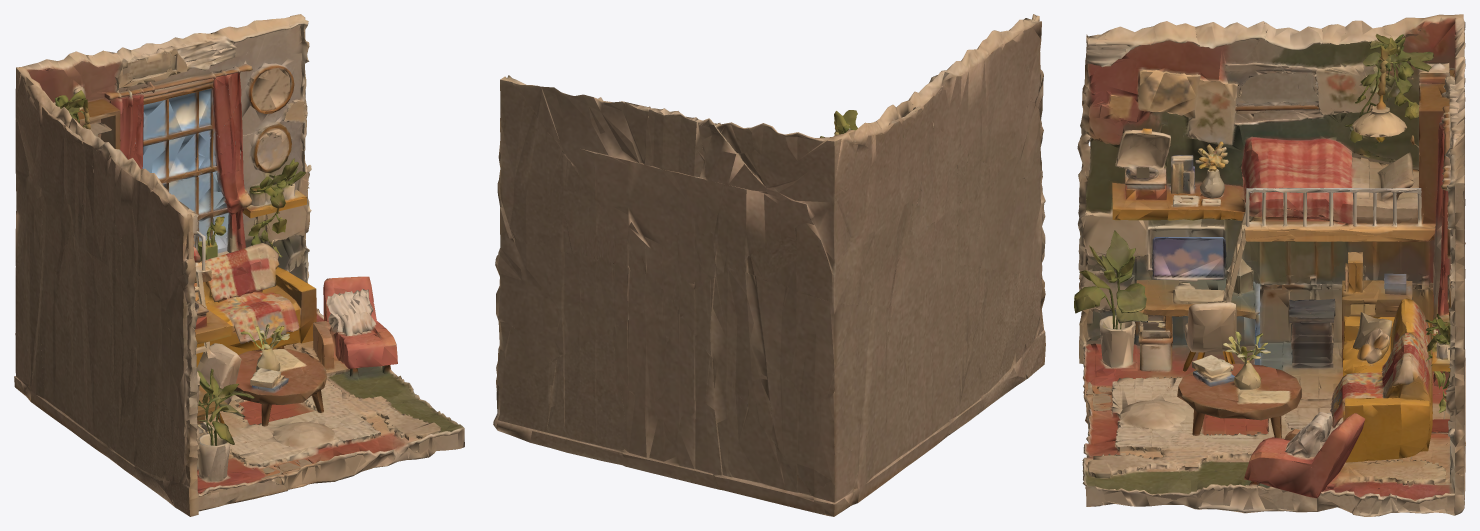
The model's file is room.glb.
3 views of the same model, side by side, from view 1: azimuth 30°, elevation 25°; view 2: azimuth 150°, elevation 25°; view 3: azimuth 270°, elevation 25° (orthographic). The views are drawn at different scales.
Parts seen in each view (by area): view 1: room_low; view 2: room_low; view 3: room_low.
Boxes of the visible parts, left/top/right/bottom form: room_low: left=14, top=14, right=464, bottom=516; room_low: left=493, top=14, right=1045, bottom=516; room_low: left=1074, top=14, right=1465, bottom=516.
Size of the model in its own units: 4.84 by 4.99 by 5.
Materials: 1 (1 with a texture image).
